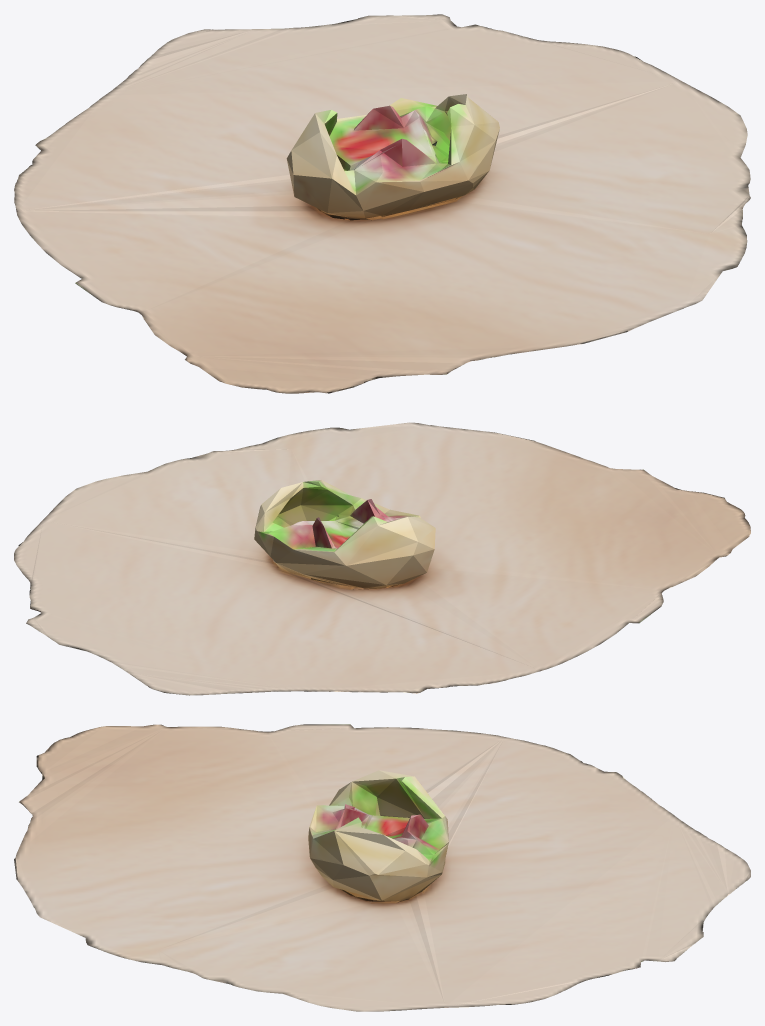
Rendered from mexican.glb.
3 views of the same model, one above another, from view 1: azimuth 30°, elevation 25°; view 2: azimuth 150°, elevation 25°; view 3: azimuth 270°, elevation 25° (orthographic). The views are drawn at different scales.
Visible parts, largest first — view 1: world; view 2: world; view 3: world.
Boxes of the visible parts, bbox=[...] form: world: bbox=[14, 14, 750, 393]; world: bbox=[14, 422, 750, 695]; world: bbox=[14, 724, 750, 1011].
Size of the model in its own units: 0.9187 by 0.1144 by 0.9935.
1 material, 1 textured.
